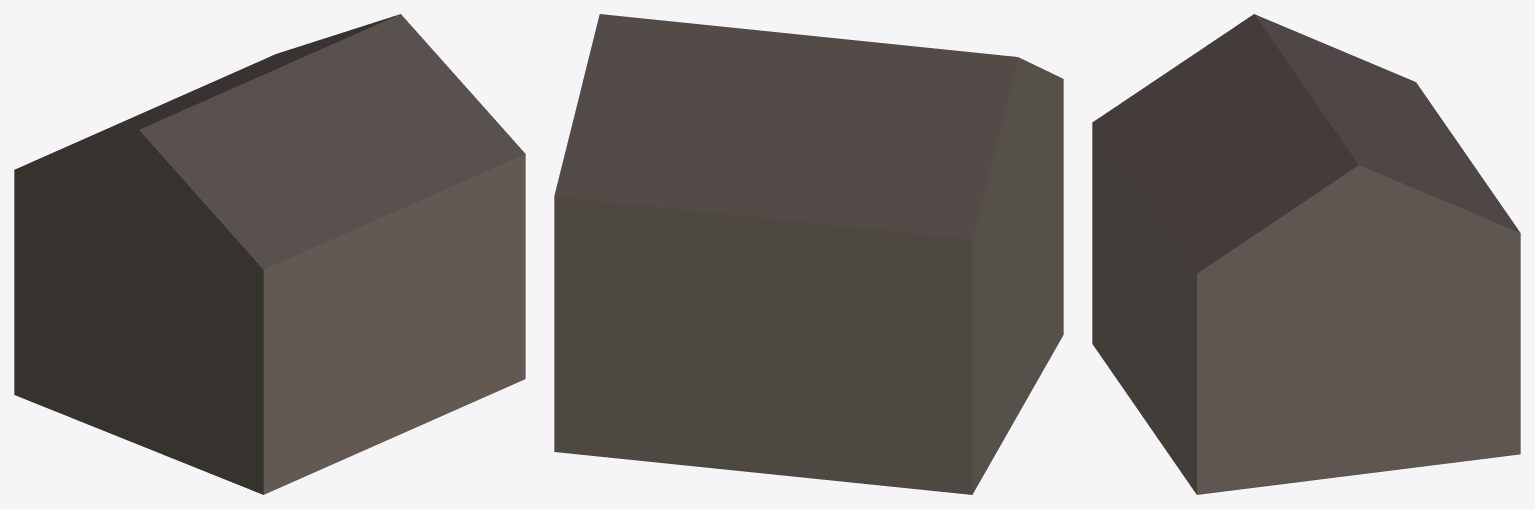
The picture shows the model from 3 angles, left to right: view 1: azimuth 30°, elevation 25°; view 2: azimuth 150°, elevation 25°; view 3: azimuth 270°, elevation 25°; orthographic projection. The views are drawn at different scales.
Visible parts, largest first — view 1: HP-w1200835405; view 2: HP-w1200835405; view 3: HP-w1200835405.
Part boxes in pixels (left/top/right/bottom): HP-w1200835405: left=14, top=14, right=525, bottom=494; HP-w1200835405: left=554, top=14, right=1063, bottom=494; HP-w1200835405: left=1092, top=14, right=1520, bottom=494.
Bounding box in the file's own units: 11.15 × 8.4 × 10.53.
